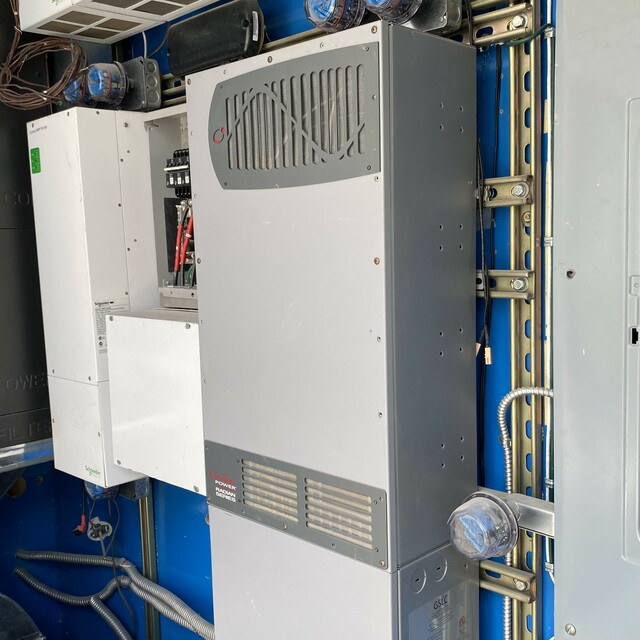inverter: (177, 25, 474, 640)
